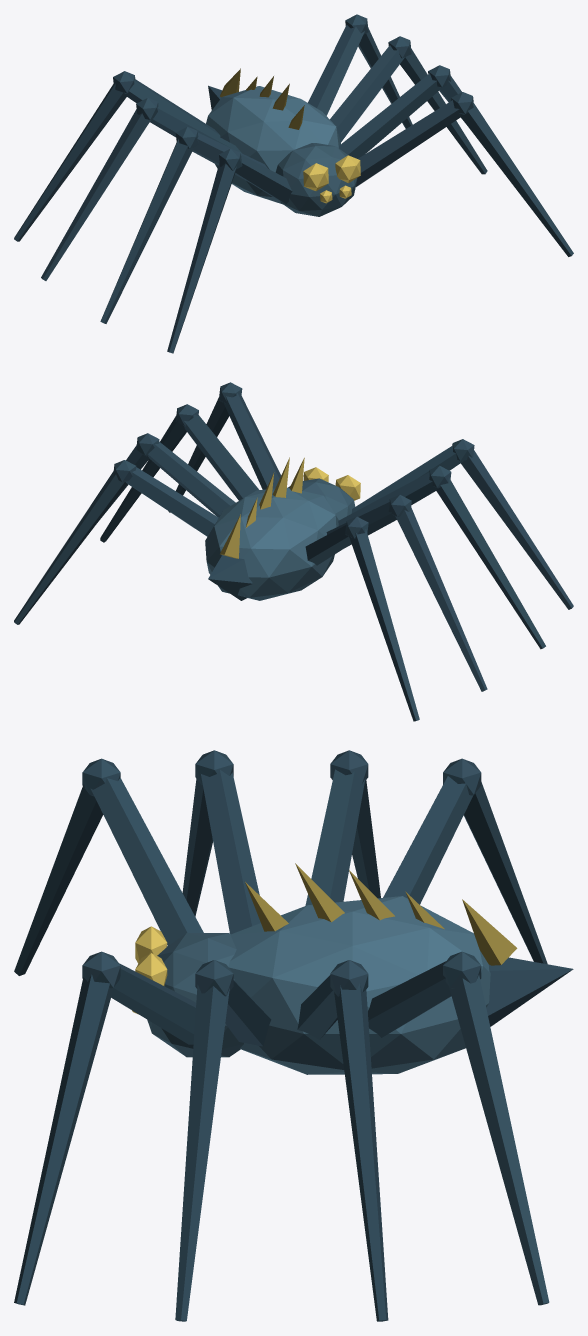
The model's file is enemy_skitter.glb.
The picture shows the model from 3 angles, top to bottom: view 1: azimuth 30°, elevation 25°; view 2: azimuth 150°, elevation 25°; view 3: azimuth 270°, elevation 25°; orthographic projection. The views are drawn at different scales.
Parts seen in each view (by area): view 1: enemy_skitter; view 2: enemy_skitter; view 3: enemy_skitter.
Part boxes in pixels (left/top/right/bottom): enemy_skitter: left=14, top=14, right=573, bottom=353; enemy_skitter: left=14, top=382, right=573, bottom=721; enemy_skitter: left=14, top=750, right=573, bottom=1321.
Bounding box in the file's own units: 2.06 × 0.7414 × 1.32.
